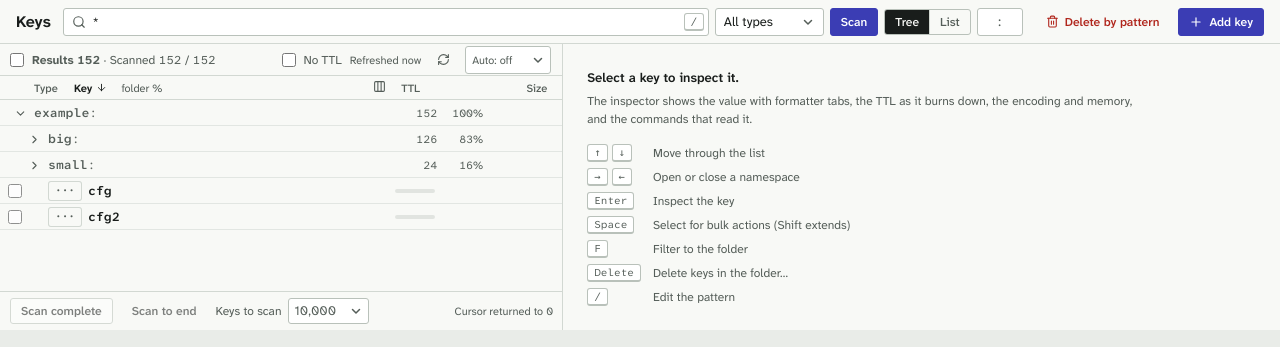
Test: key browser v0.2.1 › Tree/List toggle keeps the delimiter; the column chooser stops reading hidden columns
The width and height of the screenshot is (1280, 347).
What coordinates should you click on to do the following:
click the button with test id "key-view-list"
I would click on:
 (950, 22)
Its box is [930, 10, 970, 34].
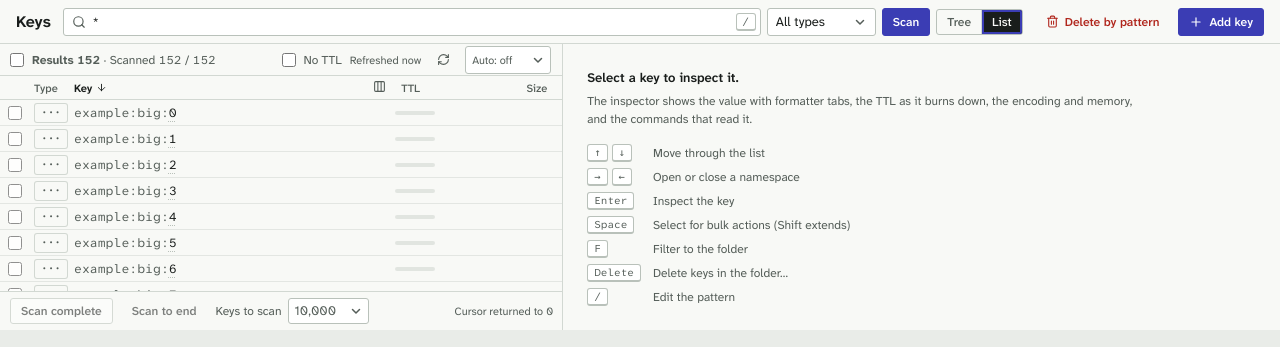
Check: no list items with test id "key-folder" are shown
Check: the field with test id "key-delimiter" is gone
What coordinates should you click on to do the following:
click the heading with test id "key-columns"
I would click on:
 (380, 86)
Its box is [373, 80, 386, 92].
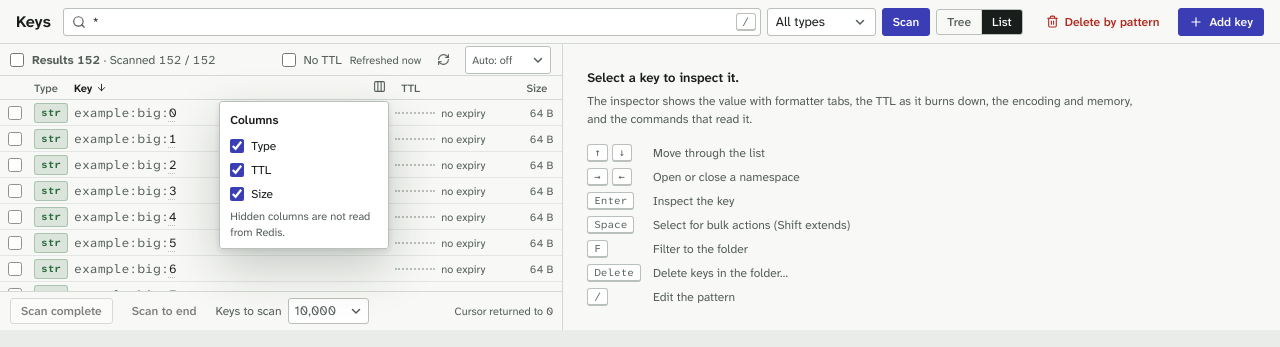
What coordinates should you click on to do the following:
click the checkbox with test id "key-column-size"
I would click on:
 (237, 194)
Its box is [230, 186, 244, 200].
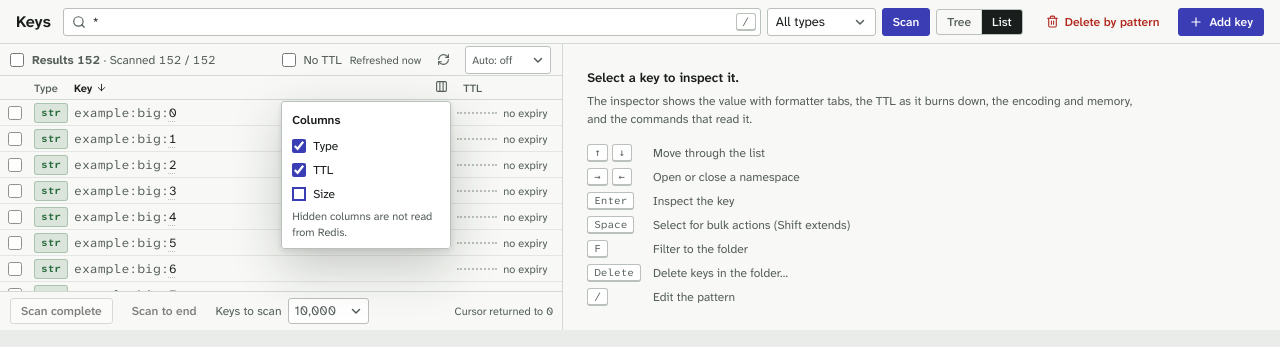
What coordinates should you click on to do the following:
click the checkbox with test id "key-column-ttl"
I would click on:
 (299, 170)
Its box is [292, 162, 306, 176].
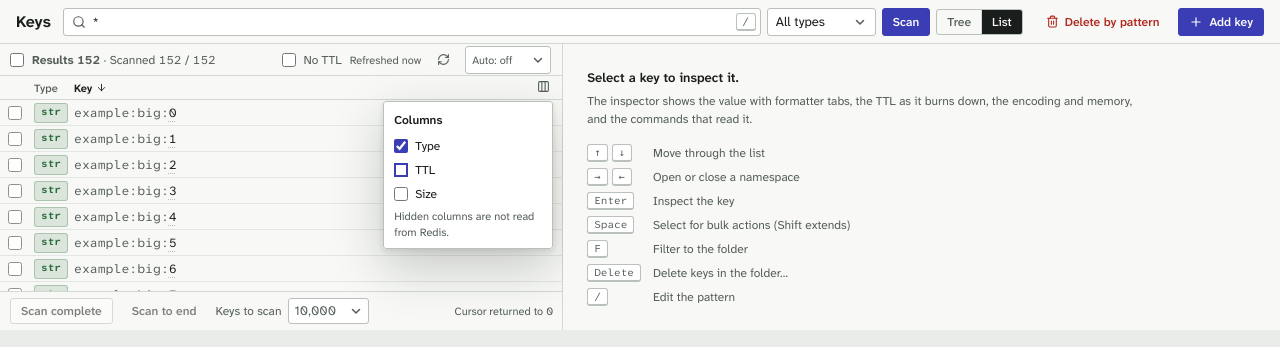
# Rows not loaded yet are asked without PTTL / MEMORY USAGE.
What coordinates should you click on to do the following:
click the button with test id "key-sort-name"
I would click on:
 (91, 88)
Its box is [68, 78, 113, 98].
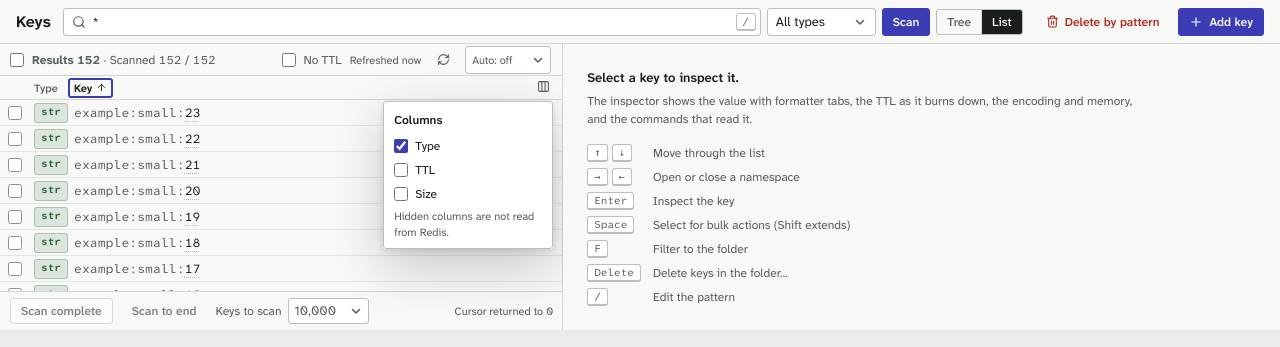
What coordinates should you click on to do the following:
click the button with test id "key-view-tree"
I would click on:
 (960, 22)
Its box is [937, 10, 982, 34].
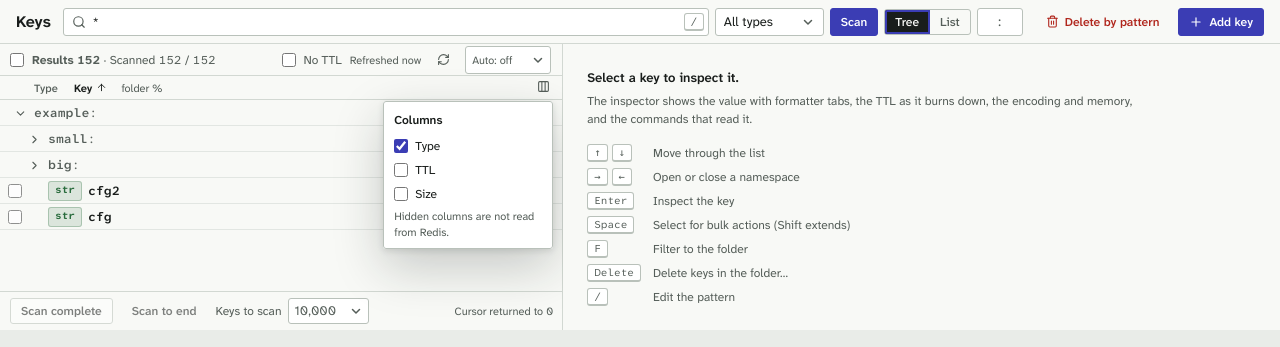
Check: the field with test id "key-delimiter" holds ":", box [977, 8, 1023, 36]
Check: the list item with test id "key-folder" showing "example: 152 100%" is shown, box [0, 100, 563, 126]
